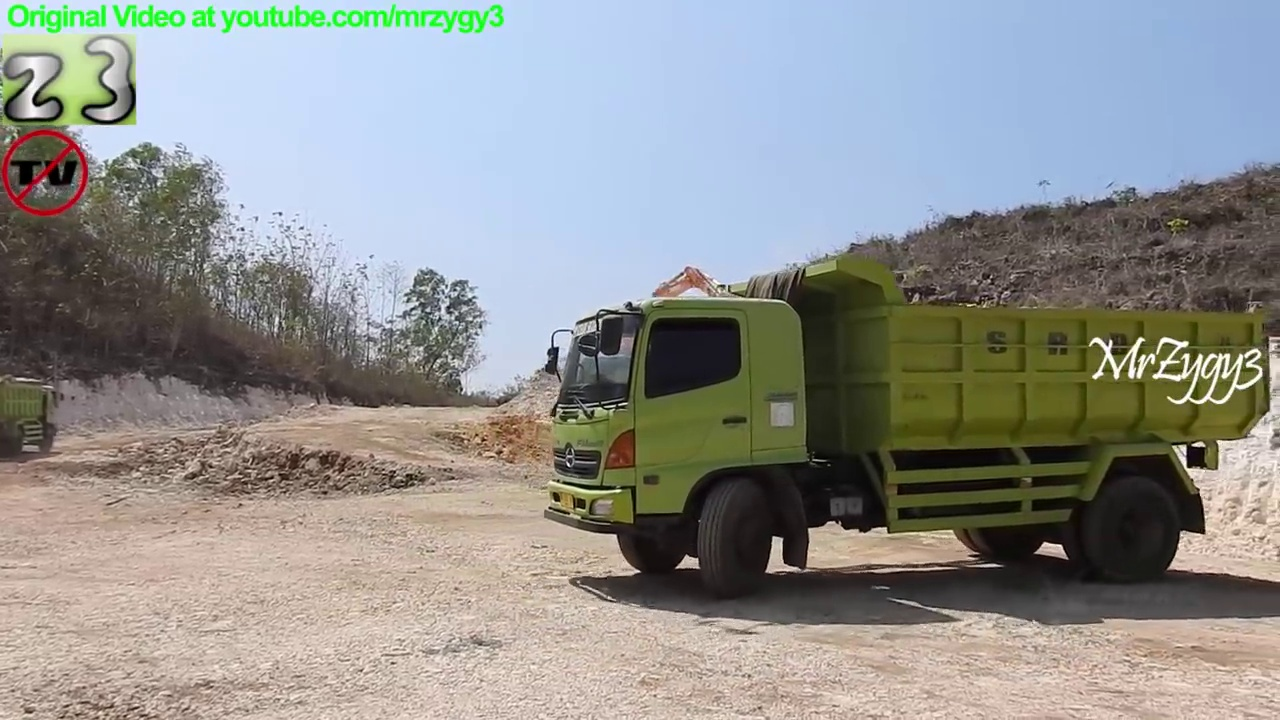excavator: (615, 259, 754, 398)
truck: (541, 250, 1277, 603), (1, 373, 68, 465)
